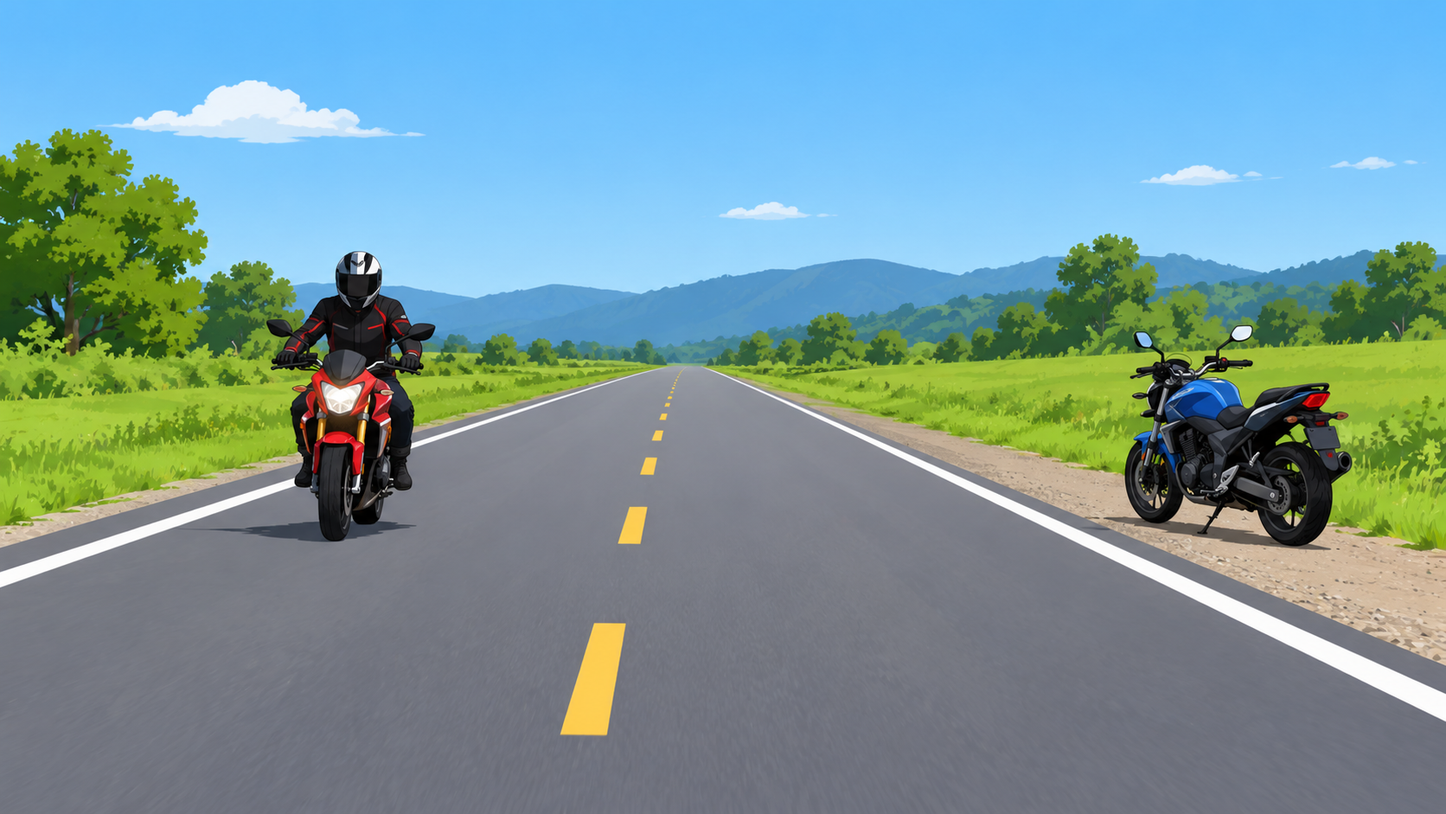motorcycle: (1126, 326, 1352, 548), (268, 251, 437, 542)
person: (276, 251, 431, 491)
